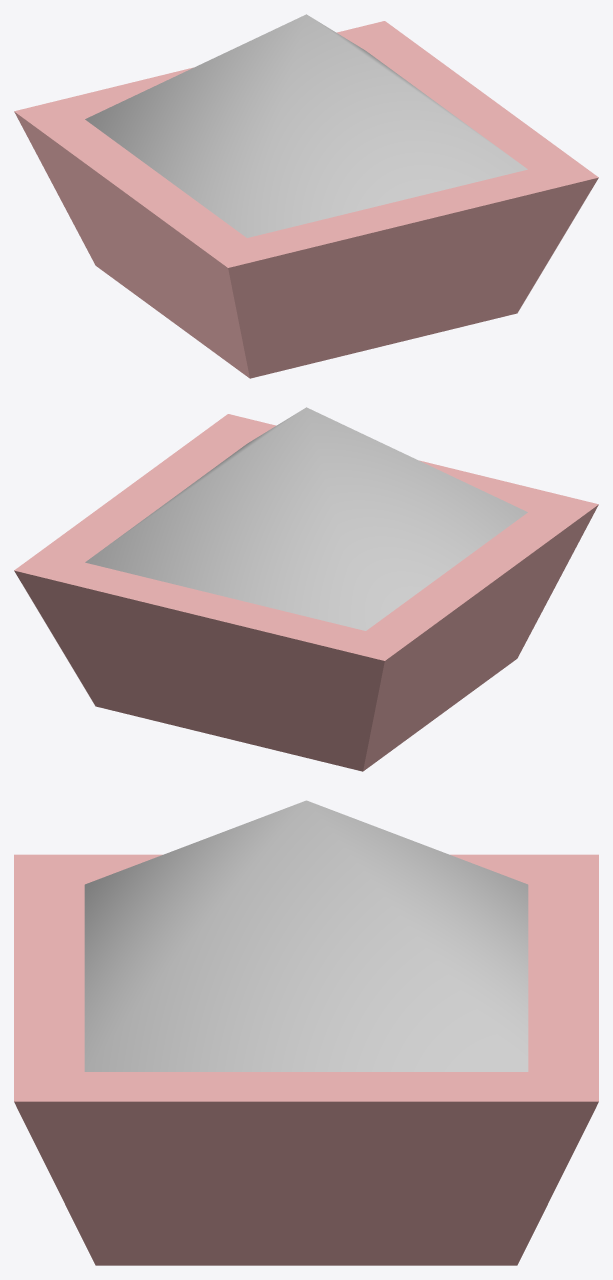
Rendered from Sales.fbx.
The picture shows the model from 3 angles, top to bottom: view 1: azimuth 30°, elevation 25°; view 2: azimuth 150°, elevation 25°; view 3: azimuth 270°, elevation 25°; orthographic projection. The views are drawn at different scales.
Visible parts, largest first — view 1: bol_ceniza; view 2: bol_ceniza; view 3: bol_ceniza.
Part boxes in pixels (x1=…): bol_ceniza: x1=14, y1=14, x2=598, y2=378; bol_ceniza: x1=14, y1=407, x2=598, y2=771; bol_ceniza: x1=14, y1=800, x2=598, y2=1265.
Bounding box in the file's own units: 15.48 × 10.98 × 15.48.
